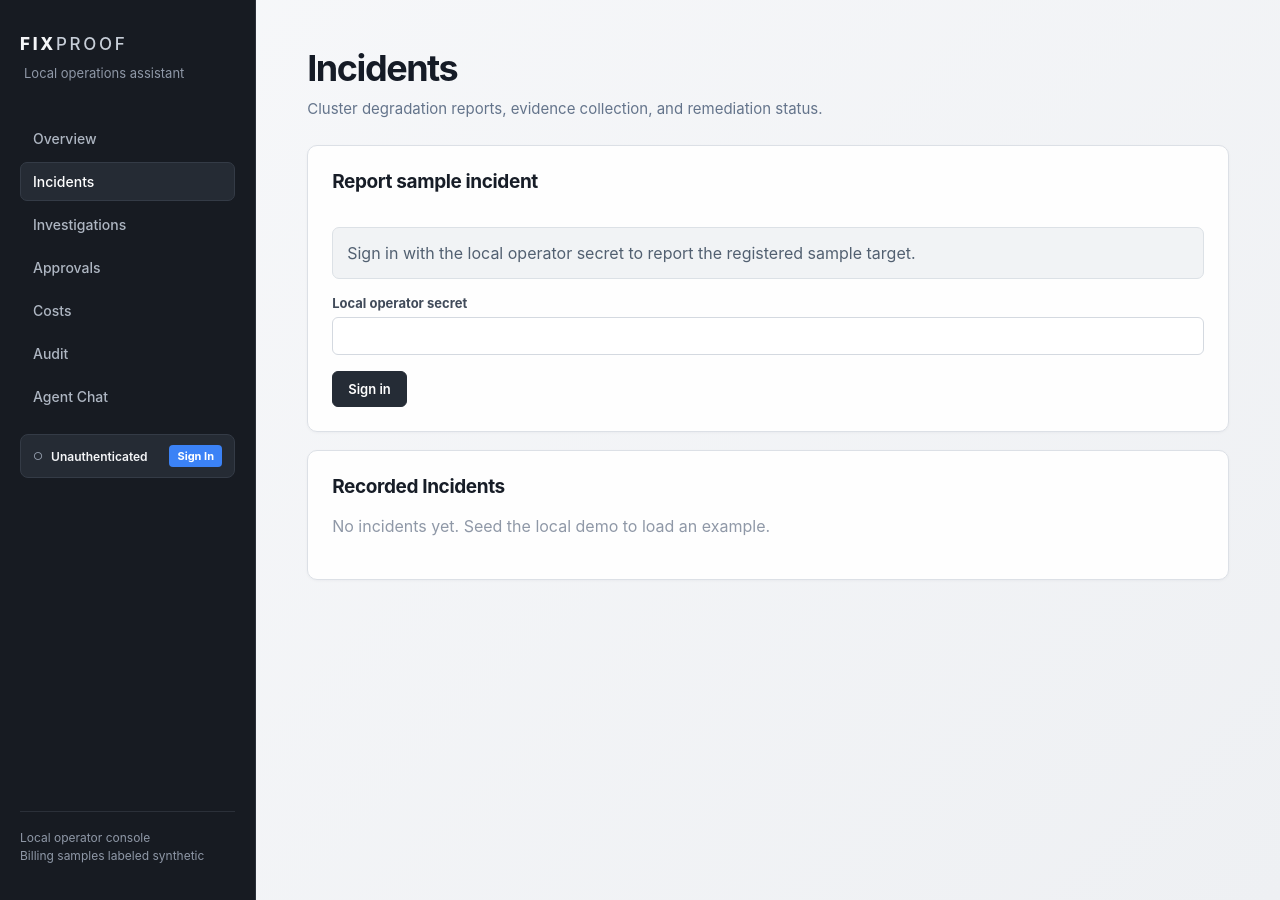
Scenario: operations console › signs in and reports the registered target as unassessed
Expected: the text "No incidents yet. Seed the local demo to load an example." is shown, left=332, top=516, right=770, bottom=536
Type "local-secret" into the password field labelled "Local operator secret" at (768, 336), box left=332, top=317, right=1204, bottom=355
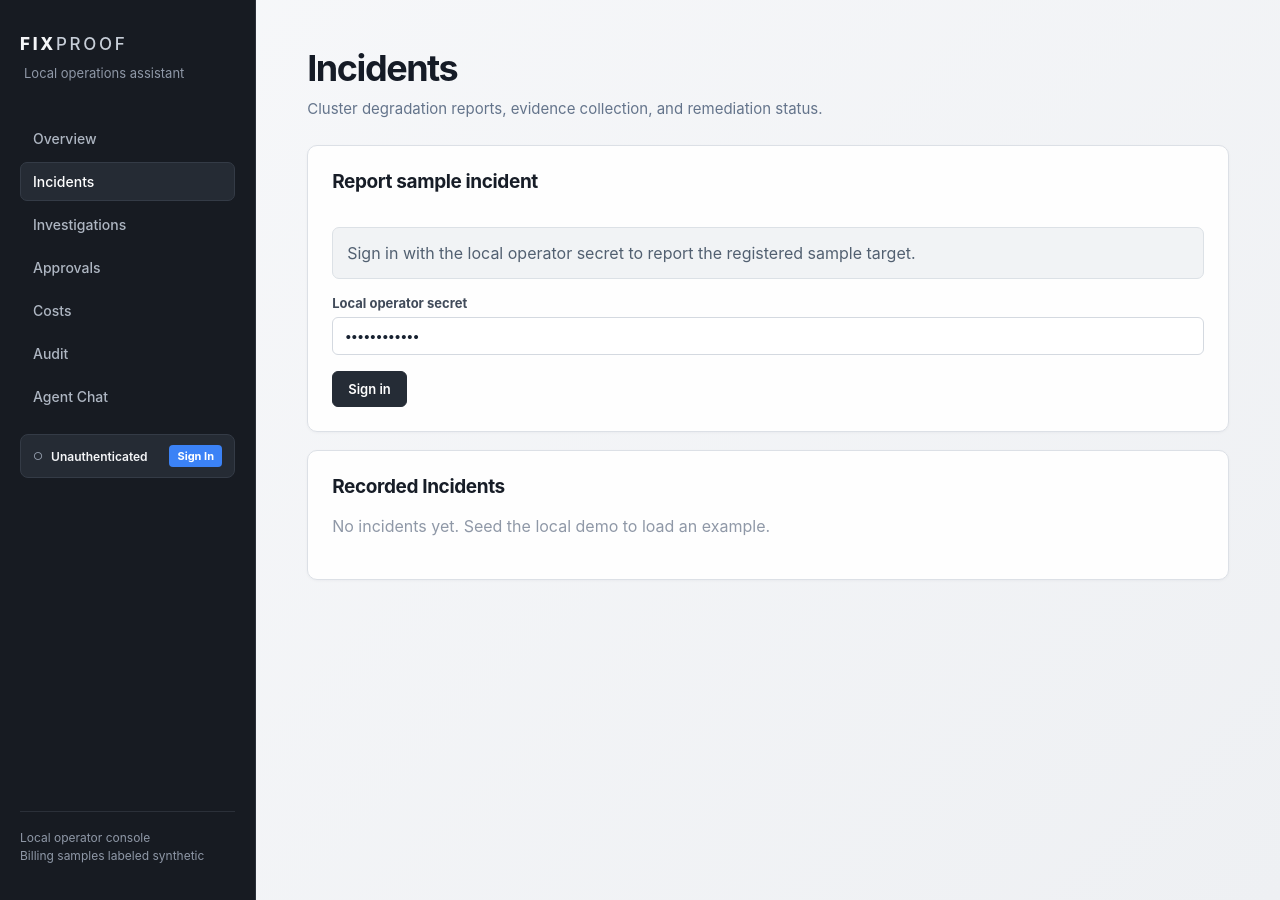
Click the button "Sign in" at (370, 389), box left=332, top=371, right=407, bottom=407
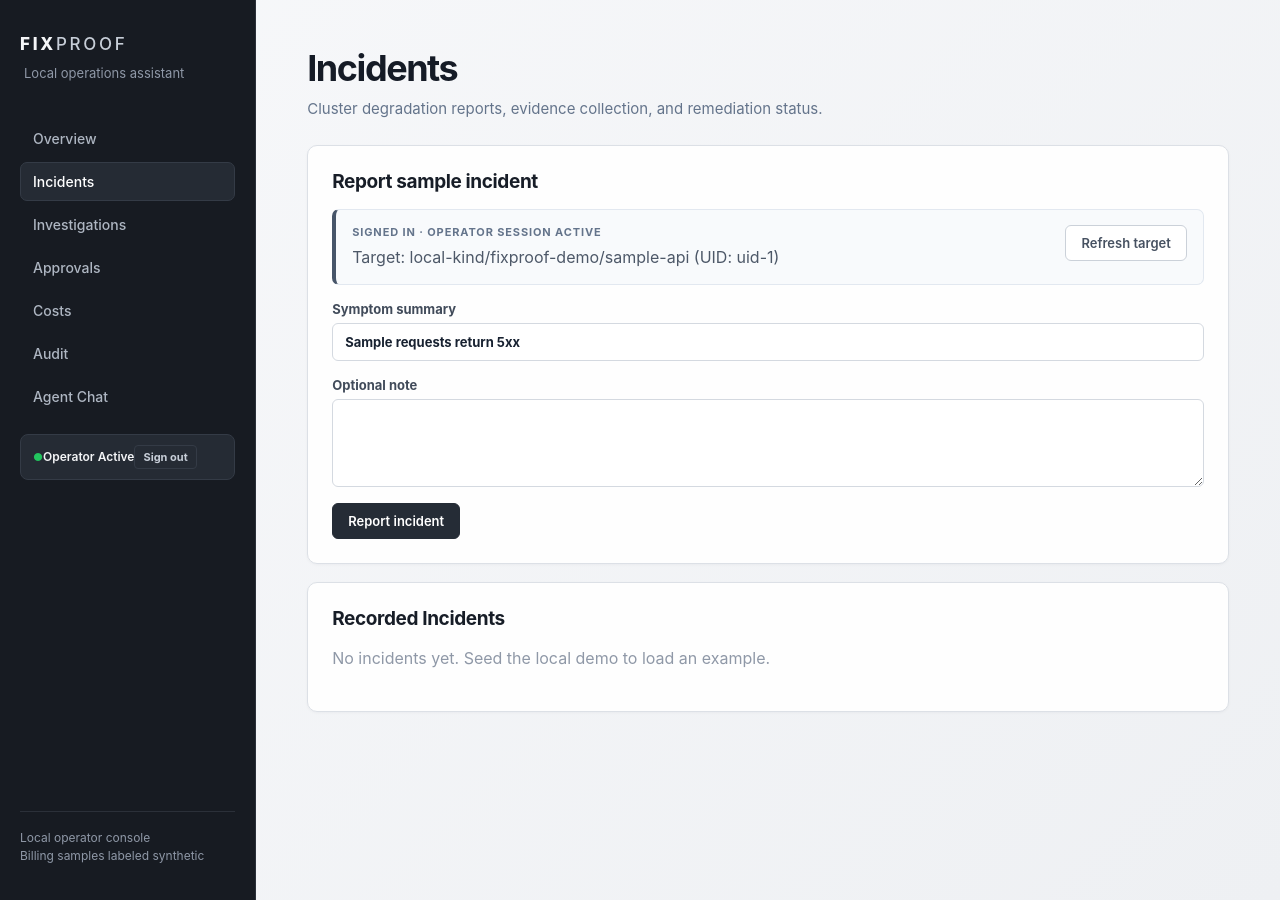
Result: the text "Target: local-kind/fixproof-demo/sample-api (UID: uid-1)" is shown at left=352, top=245, right=779, bottom=269
Click the button "Report incident" at (396, 521), box left=332, top=503, right=460, bottom=539
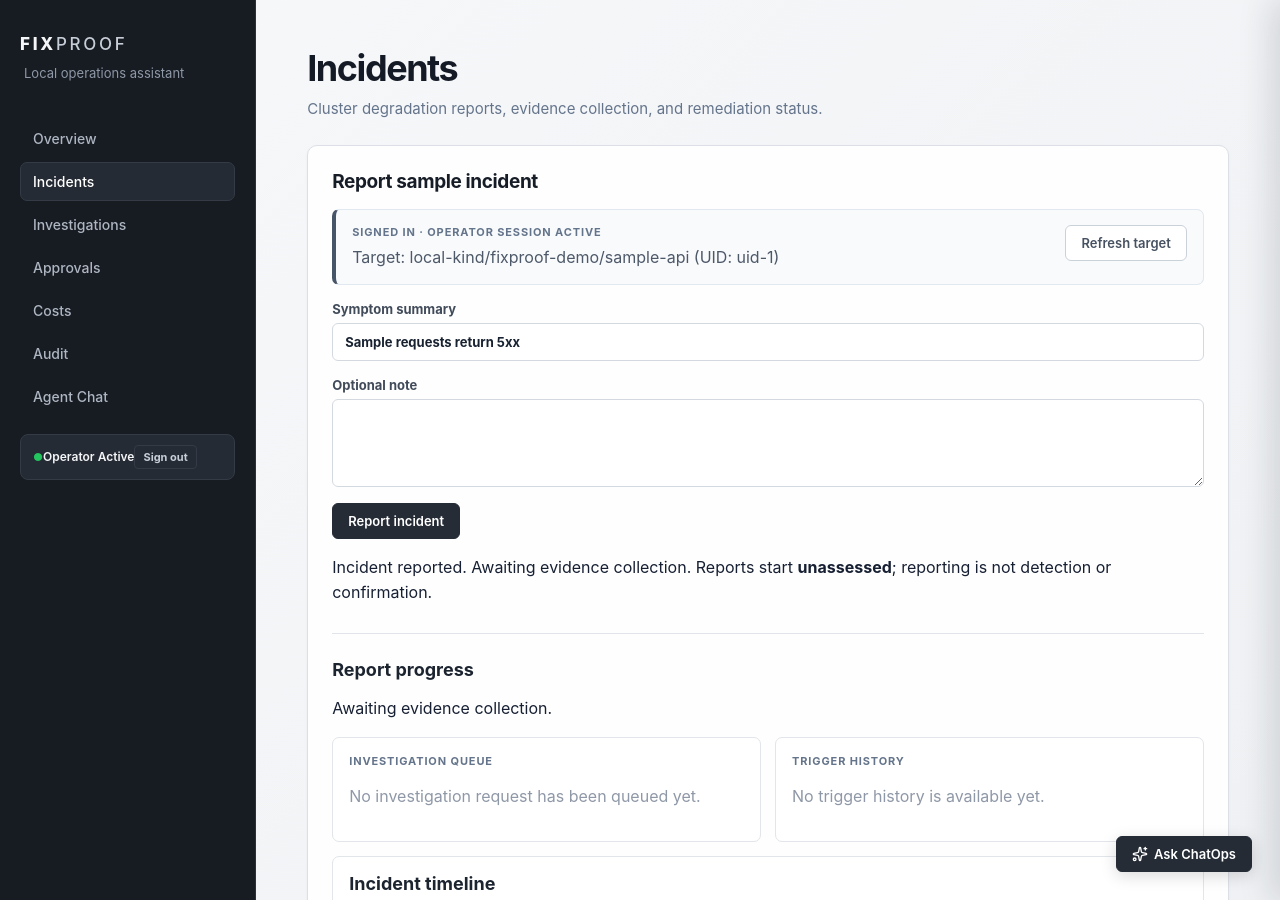
Result: the text "Awaiting evidence collection" is shown at left=462, top=557, right=798, bottom=577
Result: the text "reporting is not detection or confirmation" is shown at left=332, top=557, right=1111, bottom=602
